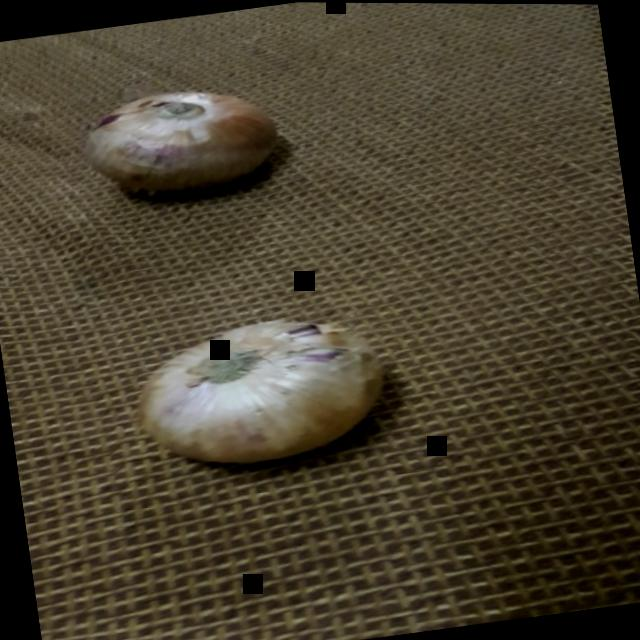onion: (118, 295, 413, 489), (63, 71, 298, 217)
